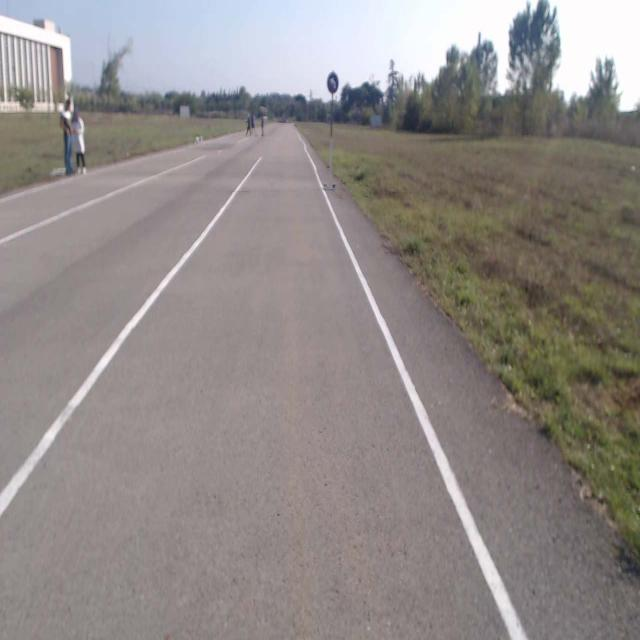sol: (327, 73, 339, 93)
